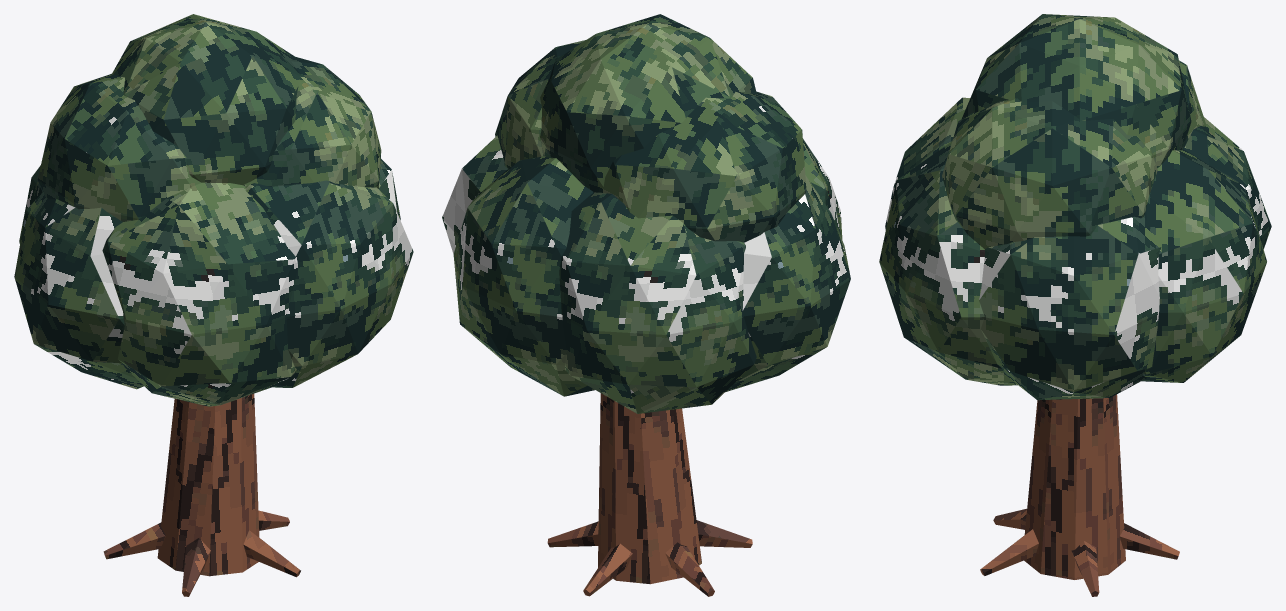
Rendered from arvore_jovem.glb.
The picture shows the model from 3 angles, left to right: view 1: azimuth 30°, elevation 25°; view 2: azimuth 150°, elevation 25°; view 3: azimuth 270°, elevation 25°; orthographic projection.
Parts seen in each view (by area): view 1: bosque_arvore_jovem; view 2: bosque_arvore_jovem; view 3: bosque_arvore_jovem.
Part boxes in pixels (x1,y1,x2,y2): bosque_arvore_jovem: [14, 14, 413, 596]; bosque_arvore_jovem: [442, 14, 850, 596]; bosque_arvore_jovem: [879, 14, 1271, 596].
Bounding box in the file's own units: 1.13 × 1.58 × 1.04.
Materials: 2 (2 with a texture image).
